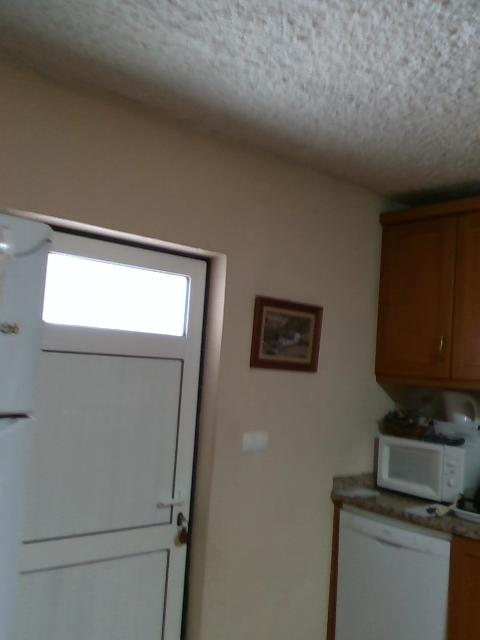door: (22, 233, 203, 639)
